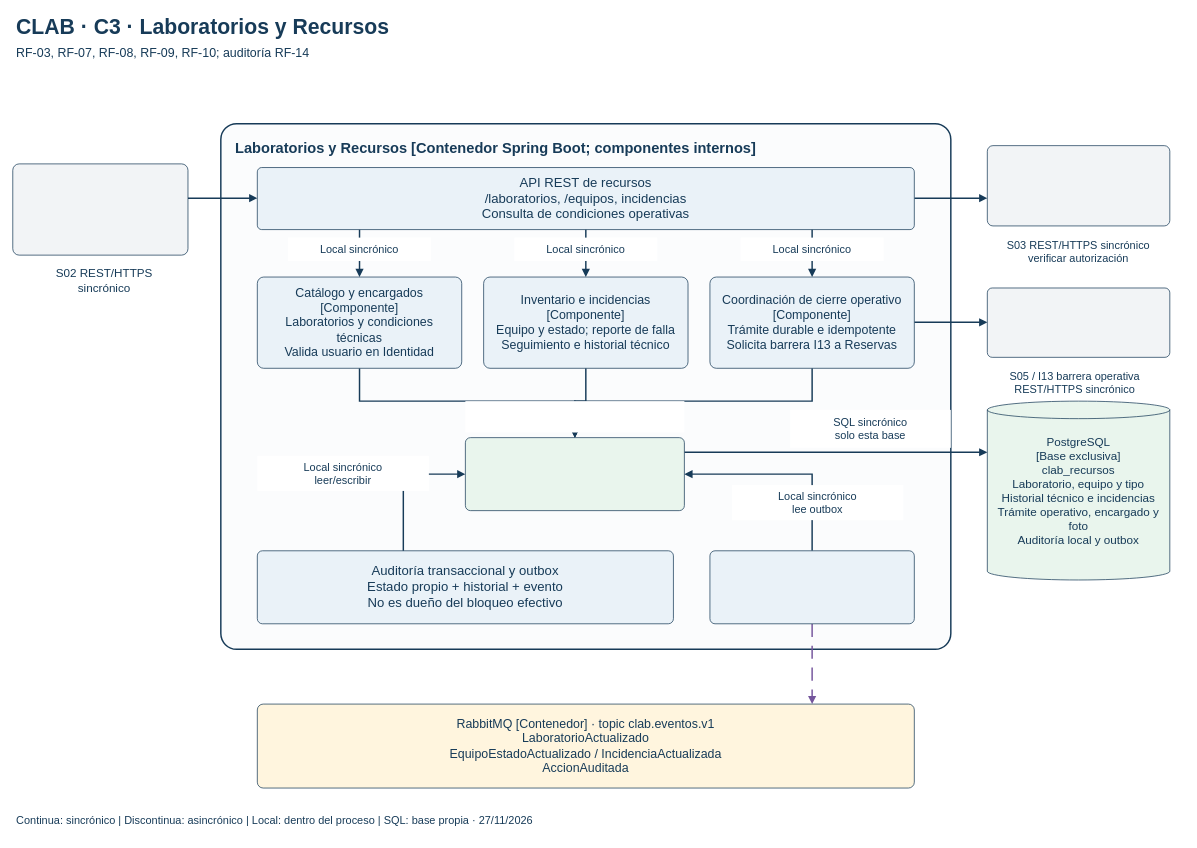
Image size: 1197x848. Some labels were removed from this diagram. The shapes that lost their labels are listed below. From the top down, each one's box as (x1, y1, x2, y2) in pixels, then its label:
(987, 145, 1170, 226): Identidad y Académico [Contenedor externo] Autorización vigente
(12, 163, 188, 255): API Gateway [Contenedor] Entrada web / móvil
(987, 287, 1170, 357): Reservas y Agenda [Contenedor externo]
(465, 401, 684, 432): Dependencias locales sincrónicas
(465, 437, 684, 511): Repositorios [Componente] Datos propios, inbox y versiones Transacciones locales
(709, 550, 914, 624): Publicador de outbox [Componente] Confirms y reintentos
(843, 650, 982, 688): AMQP/TLS asincrónico
